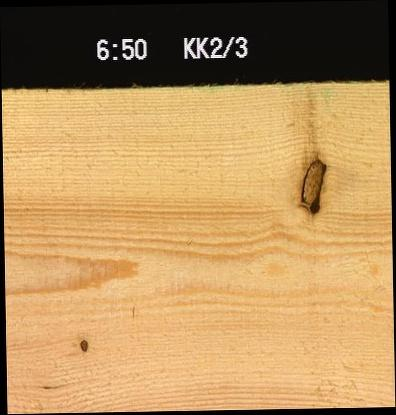dry_knot: (79, 336, 88, 353)
